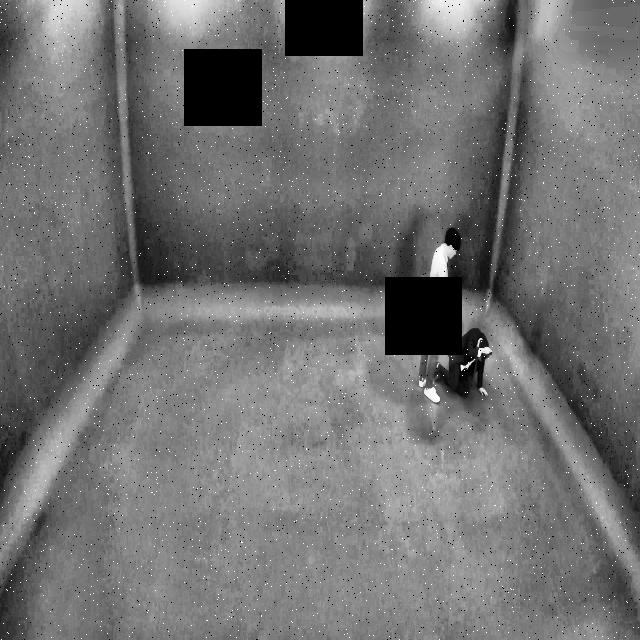assult: (419, 224, 494, 404)
